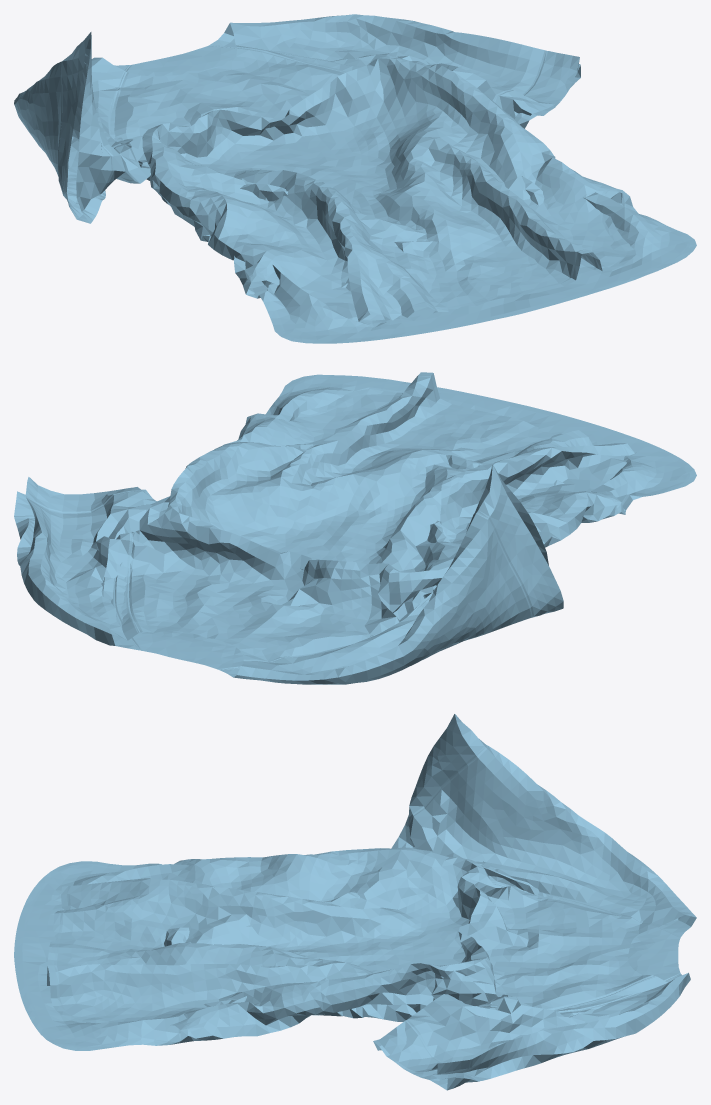
File: frame_08.glb
The picture shows the model from 3 angles, top to bottom: view 1: azimuth 30°, elevation 25°; view 2: azimuth 150°, elevation 25°; view 3: azimuth 270°, elevation 25°; orthographic projection. The views are drawn at different scales.
Parts seen in each view (by area): view 1: frame_08.obj; view 2: frame_08.obj; view 3: frame_08.obj.
Part boxes in pixels (x1,y1,x2,y2): frame_08.obj: [14, 14, 696, 343]; frame_08.obj: [14, 372, 696, 684]; frame_08.obj: [14, 714, 696, 1090].
Bounding box in the file's own units: 1.56 × 0.4692 × 1.83.
